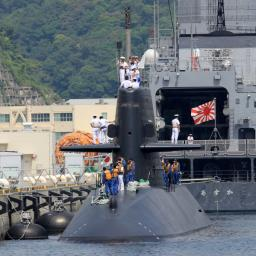submarine: (58, 85, 212, 245)
